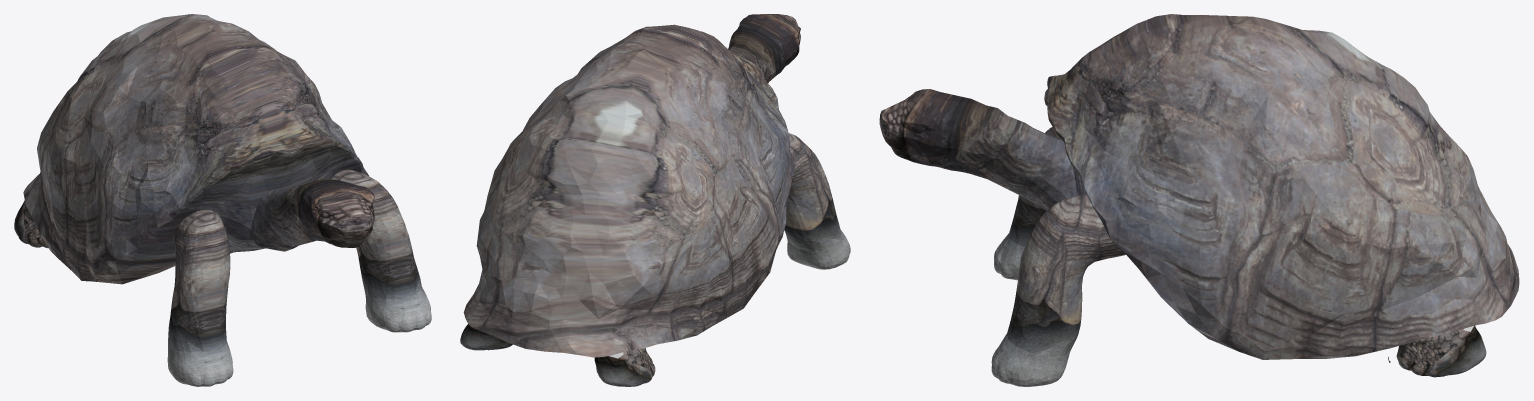
The model's file is Tortoise.dae.
3 renders of one model, left to right at view 1: azimuth 30°, elevation 25°; view 2: azimuth 150°, elevation 25°; view 3: azimuth 270°, elevation 25°, orthographic. The views are drawn at different scales.
Visible parts, largest first — view 1: tortoise, tortoise_003, tortoise_001, tortoise_004; view 2: tortoise, tortoise_003, tortoise_004, tortoise_002; view 3: tortoise, tortoise_001, tortoise_002, tortoise_003.
Boxes of the visible parts, box(x1,y1,x2,y2) form: tortoise: box(23, 14, 374, 284); tortoise_003: box(167, 210, 233, 386); tortoise_001: box(331, 169, 431, 332); tortoise_004: box(14, 200, 48, 248); tortoise: box(463, 14, 800, 357); tortoise_003: box(784, 133, 850, 269); tortoise_004: box(594, 348, 655, 386); tortoise_002: box(460, 324, 512, 350); tortoise: box(879, 14, 1519, 362); tortoise_001: box(991, 195, 1125, 386); tortoise_002: box(1396, 325, 1486, 377); tortoise_003: box(994, 127, 1062, 280).
Size of the model in its own units: 0.7101 by 1.33 by 0.6978.
12 materials, 9 textured.
